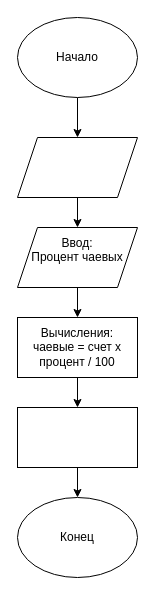
The diagram is 155 pixels wide and 595 high, and some of its shapes have lost their labels. The shapes that lost their labels are listed below. From the top down, each one's box as (x1, y1, x2, y2) in pixels, then its label:
(16, 136, 138, 198): Ввод: Сумма счета
(16, 406, 138, 468): Вычисления: счет + чаевые
